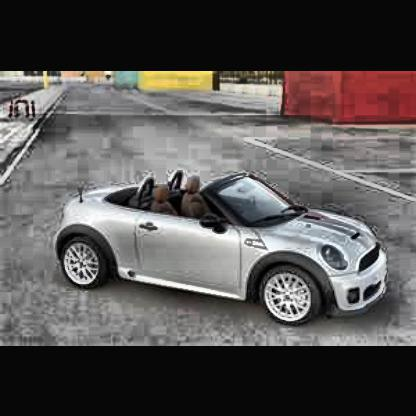MINI Cooper Roadster Convertible 2012: (52, 171, 390, 330)
